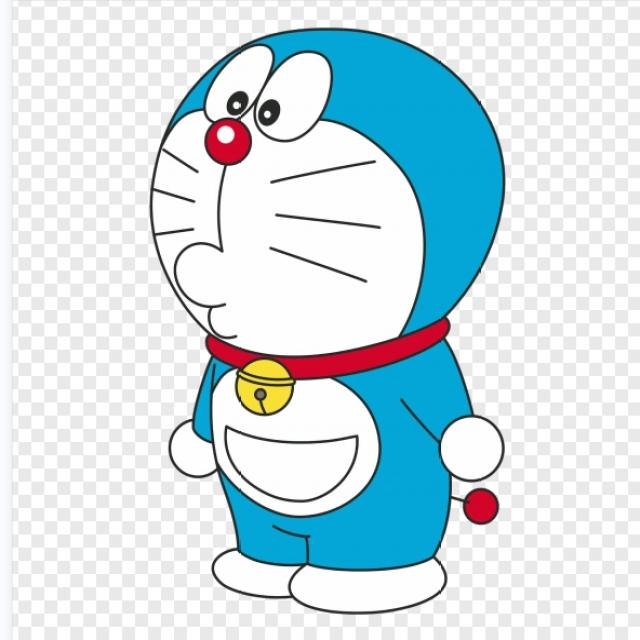Ameng: (120, 17, 553, 374)
